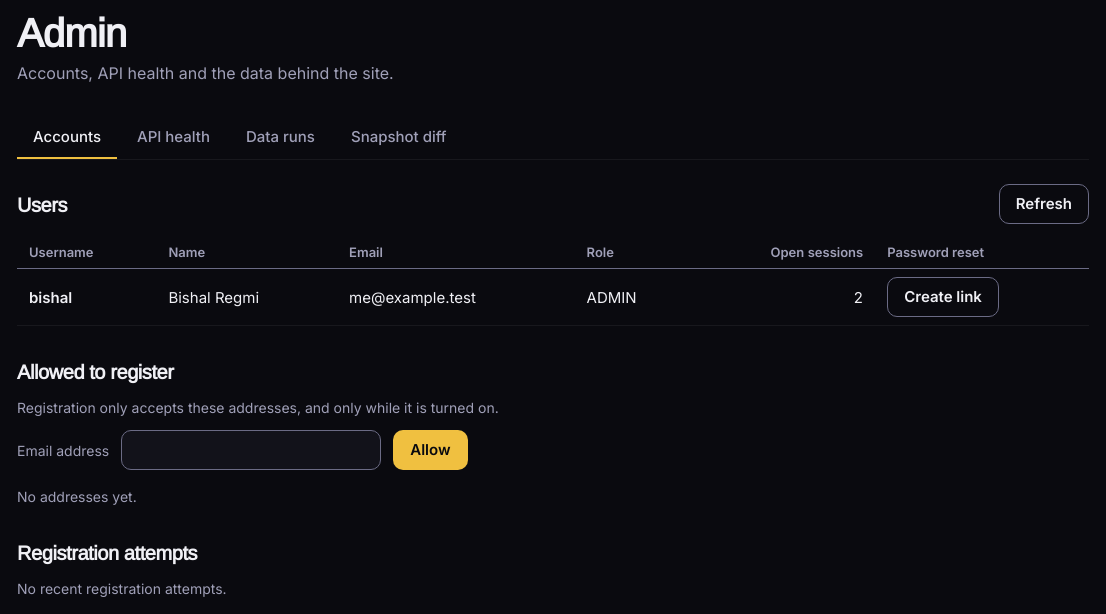
Test: AdminComponent › shows a reset link once one is created
Click the button "Create link".
click(943, 297)  # box x1=887 y1=277 x2=999 y2=317
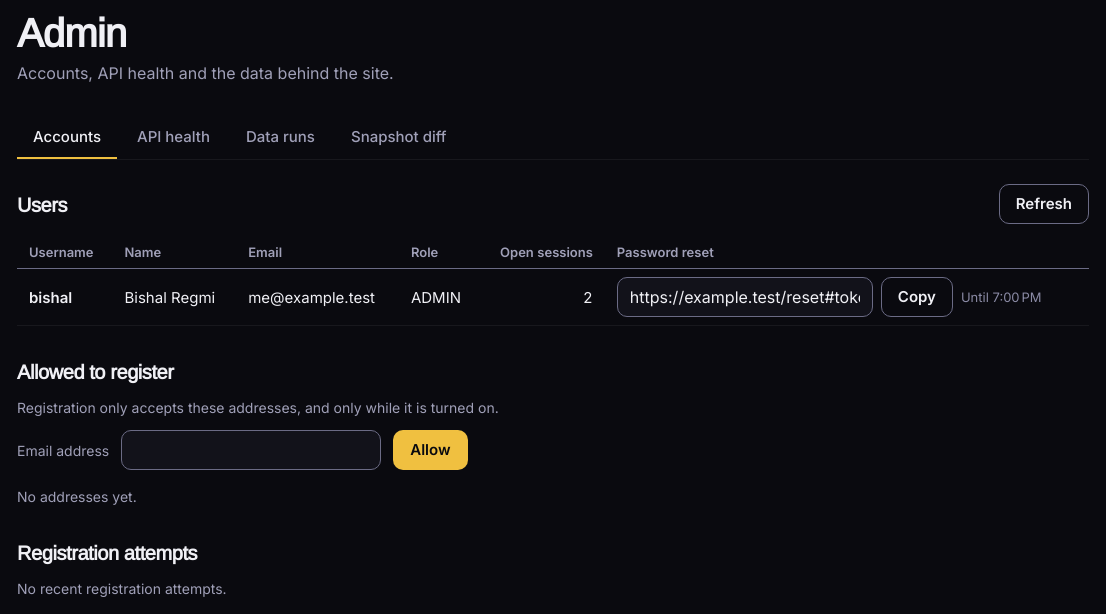
Expected: the field with class "link-field" holds "https://example.test/reset#token=x", x1=617 y1=277 x2=873 y2=317
